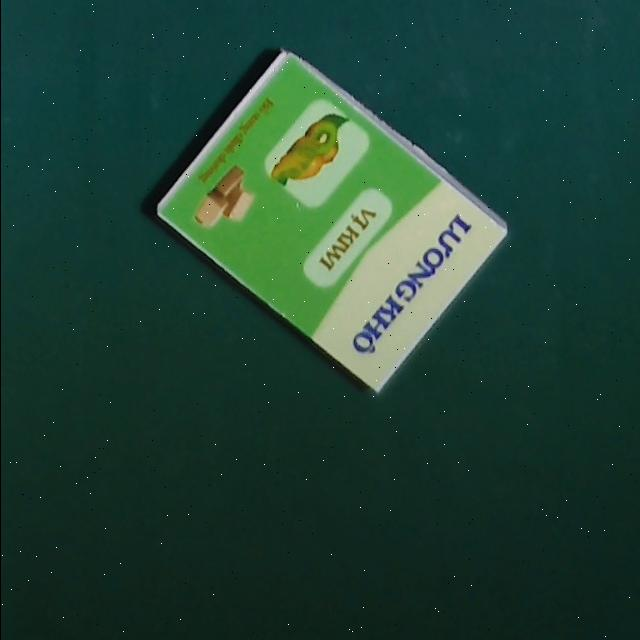kiwi: (151, 41, 514, 394)
